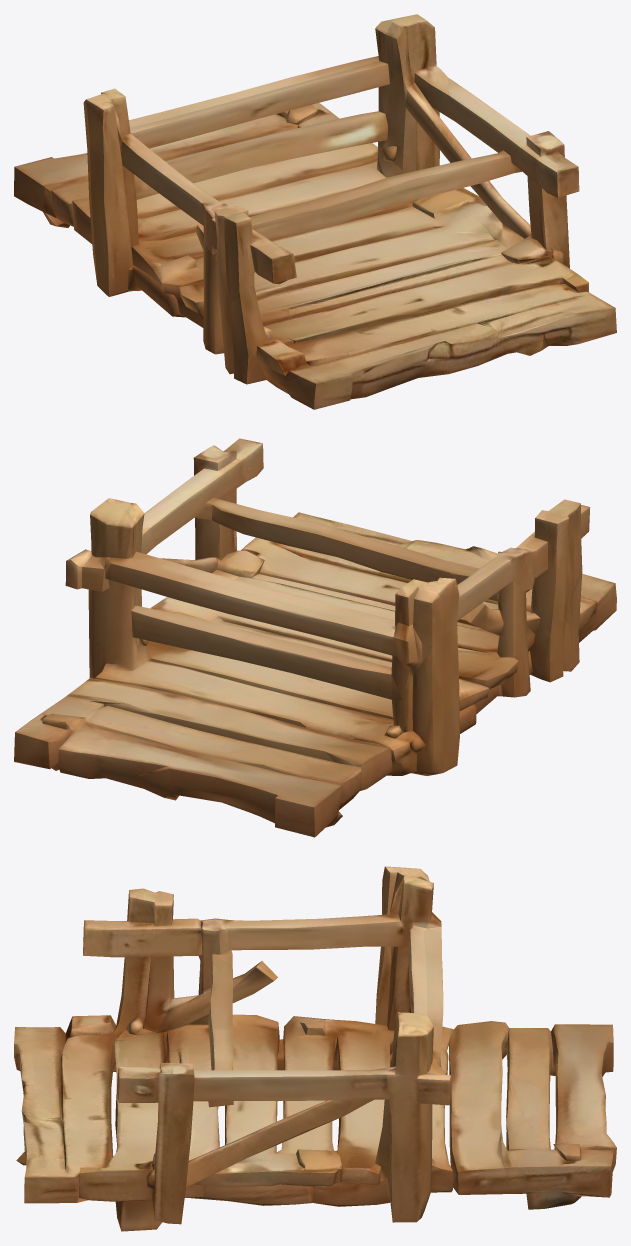
The model's file is woodenBridge.glb.
3 views of the same model, one above another, from view 1: azimuth 30°, elevation 25°; view 2: azimuth 150°, elevation 25°; view 3: azimuth 270°, elevation 25° (orthographic). The views are drawn at different scales.
Parts seen in each view (by area): view 1: model; view 2: model; view 3: model.
Part boxes in pixels (x1=…): model: x1=14, y1=14, x2=616, y2=409; model: x1=14, y1=438, x2=616, y2=837; model: x1=14, y1=866, x2=616, y2=1231.
Size of the model in its own units: 1.3 by 0.7263 by 1.9.
Materials: 1 (1 with a texture image).
